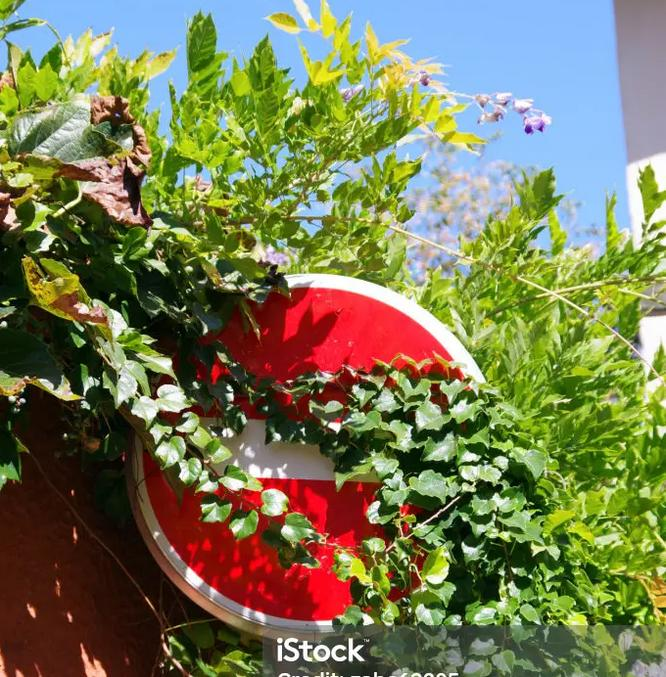obstructed_road_sign: (133, 272, 487, 642)
